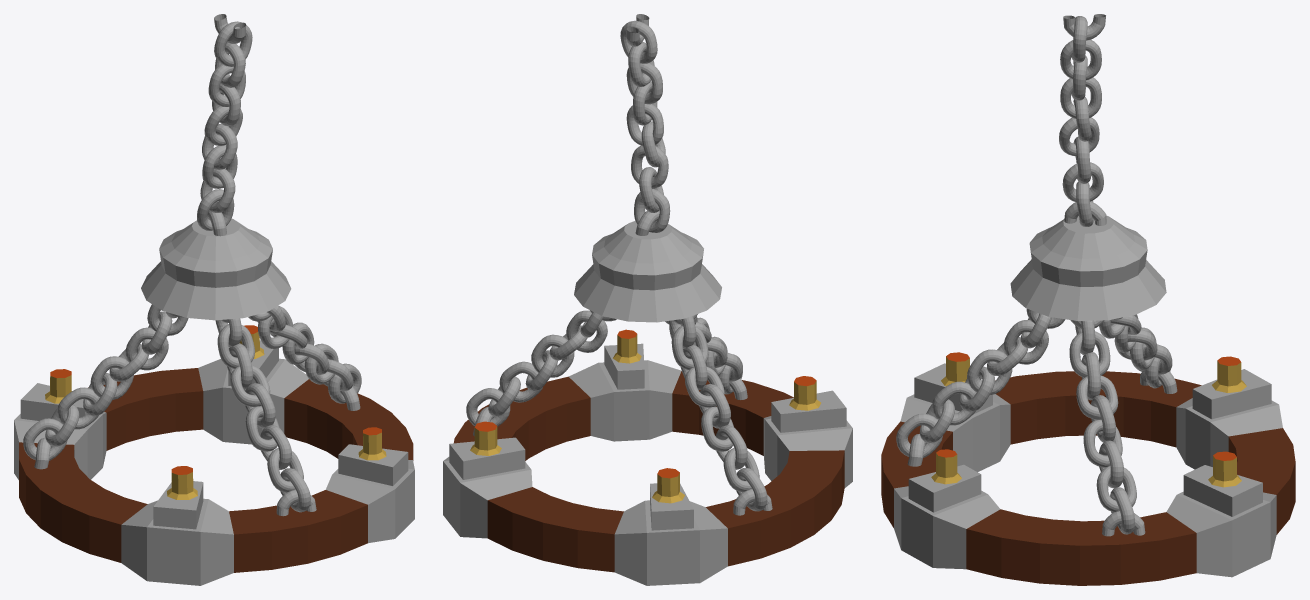
The model's file is Candelabro.fbx.
The picture shows the model from 3 angles, left to right: view 1: azimuth 30°, elevation 25°; view 2: azimuth 150°, elevation 25°; view 3: azimuth 270°, elevation 25°; orthographic projection. The views are drawn at different scales.
Parts seen in each view (by area): view 1: Candelabro; view 2: Candelabro; view 3: Candelabro.
Boxes of the visible parts, <box> form: Candelabro: <box>14,14,414,585</box>; Candelabro: <box>443,14,852,585</box>; Candelabro: <box>881,14,1295,585</box>.
Size of the model in its own units: 240 by 318 by 240.
